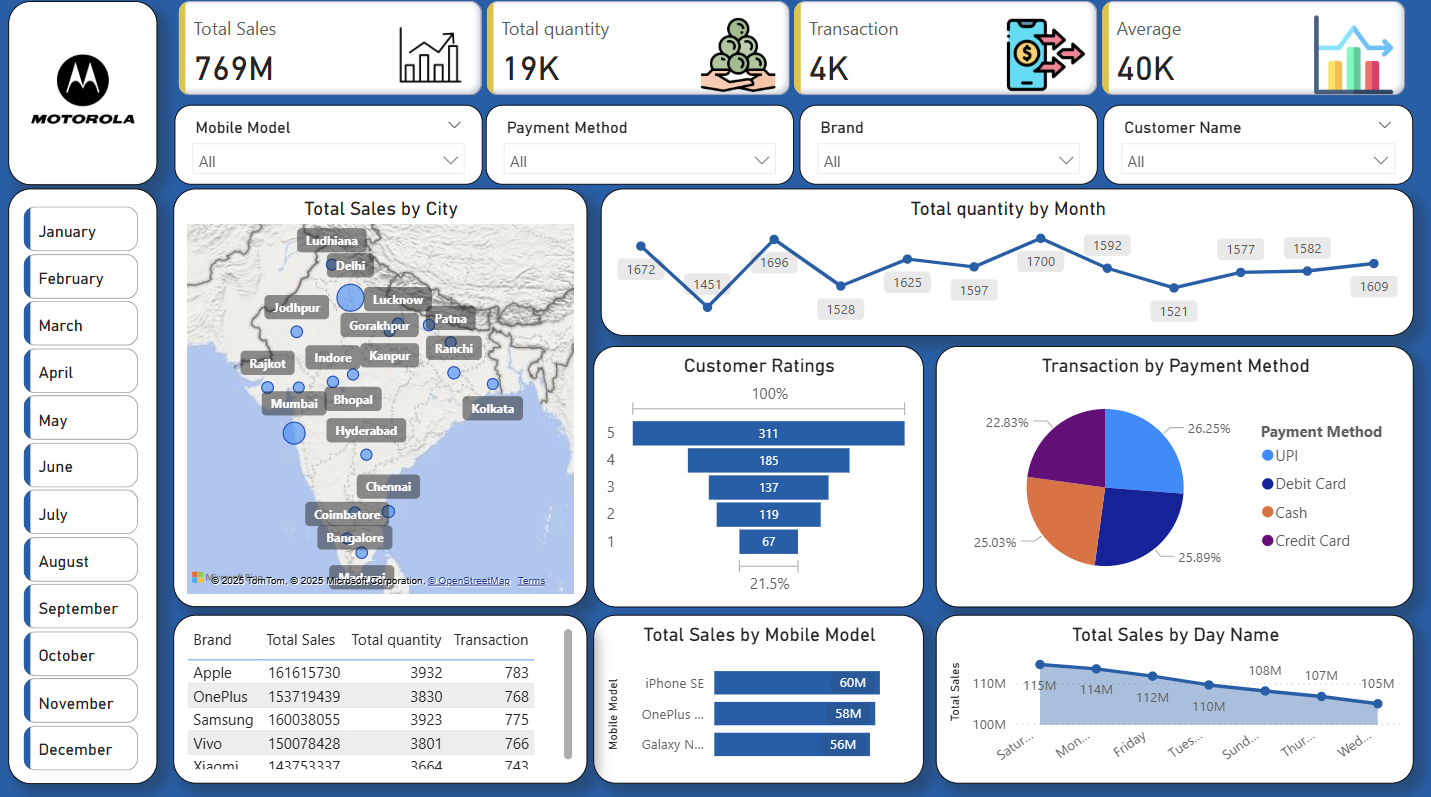

Layout of this report page (visuals, bound fields, positions):
{"tool":"powerbi","page":{"name":"Page 1","canvas":[1280,720],"ordinal":0},"visuals":[{"type":"shape","box":[10,8.6,132.9,164.3],"z":0},{"type":"image","box":[10,8.6,132.9,164.3],"z":1000},{"type":"shape","box":[10,175.7,132.9,530],"z":2000},{"type":"advancedSlicerVisual","fields":{"Values":["Sales_Data.Date.Variation.Date Hierarchy.Month"]},"box":[18.6,187.1,112.9,518.6],"z":3000},{"type":"cardVisual","fields":{"Data":["Sales_Data.Total Sales","Sales_Data.Total quantity","Sales_Data.Transaction","Sales_Data.Average"]},"box":[157.1,8.6,1104.3,84.3],"z":4000},{"type":"map","fields":{"Category":["Sales_Data.City"],"Size":["Sales_Data.Total Sales"]},"box":[157.1,175.7,368.6,372.9],"z":5000},{"type":"lineChart","fields":{"Category":["Sales_Data.Date.Variation.Date Hierarchy.Month","Sales_Data.Date.Variation.Date Hierarchy.Day"],"Y":["Sales_Data.Total quantity"]},"box":[537.1,175.7,724.3,131.4],"z":6000},{"type":"clusteredBarChart","fields":{"Category":["Sales_Data.Mobile Model"],"Y":["Sales_Data.Total Sales"]},"box":[531.4,555.7,294.3,150],"z":7000},{"type":"pieChart","fields":{"Category":["Sales_Data.Payment Method"],"Y":["Sales_Data.Transaction"]},"box":[835.7,315.7,425.7,232.9],"z":8000},{"type":"funnel","title":"Customer Ratings ","fields":{"Category":["Sales_Data.Customer Ratings"],"Y":["CountNonNull(Sales_Data.Customer Ratings)"]},"box":[531.4,315.7,294.3,232.9],"z":9000},{"type":"areaChart","fields":{"Category":["Sales_Data.Day Name"],"Y":["Sales_Data.Total Sales"]},"box":[835.7,555.7,425.7,150],"z":10000},{"type":"tableEx","fields":{"Values":["Sales_Data.Brand","Sales_Data.Total Sales","Sales_Data.Total quantity","Sales_Data.Transaction"]},"box":[157.1,555.7,368.6,150],"z":11000},{"type":"slicer","fields":{"Values":["Sales_Data.Mobile Model"]},"box":[158.6,101.4,274.3,71.4],"z":11001},{"type":"slicer","fields":{"Values":["Sales_Data.Payment Method"]},"box":[435.7,101.4,274.3,71.4],"z":11002},{"type":"slicer","fields":{"Values":["Sales_Data.Brand"]},"box":[714.3,101.4,265.7,71.4],"z":11003},{"type":"slicer","fields":{"Values":["Sales_Data.Customer Name"]},"box":[985.7,101.4,275.7,71.4],"z":11004}]}

Visuals, with their boxes in screenshot pixels (x1, y1, x2, y2), scaled from the page's 1280x720 canvas onto the 1431x797 screenshot:
shape: detection(11, 10, 160, 191)
image: detection(11, 10, 160, 191)
shape: detection(11, 194, 160, 781)
advancedSlicerVisual - Sales_Data.Date.Variation.Date Hierarchy.Month: detection(21, 207, 147, 781)
cardVisual - Sales_Data.Total Sales x Sales_Data.Total quantity: detection(176, 10, 1410, 103)
map - Sales_Data.City x Sales_Data.Total Sales: detection(176, 194, 588, 607)
lineChart - Sales_Data.Date.Variation.Date Hierarchy.Month x Sales_Data.Date.Variation.Date Hierarchy.Day: detection(600, 194, 1410, 340)
clusteredBarChart - Sales_Data.Mobile Model x Sales_Data.Total Sales: detection(594, 615, 923, 781)
pieChart - Sales_Data.Payment Method x Sales_Data.Transaction: detection(934, 349, 1410, 607)
"Customer Ratings " funnel: detection(594, 349, 923, 607)
areaChart - Sales_Data.Day Name x Sales_Data.Total Sales: detection(934, 615, 1410, 781)
tableEx - Sales_Data.Brand x Sales_Data.Total Sales: detection(176, 615, 588, 781)
slicer - Sales_Data.Mobile Model: detection(177, 112, 484, 191)
slicer - Sales_Data.Payment Method: detection(487, 112, 794, 191)
slicer - Sales_Data.Brand: detection(799, 112, 1096, 191)
slicer - Sales_Data.Customer Name: detection(1102, 112, 1410, 191)
